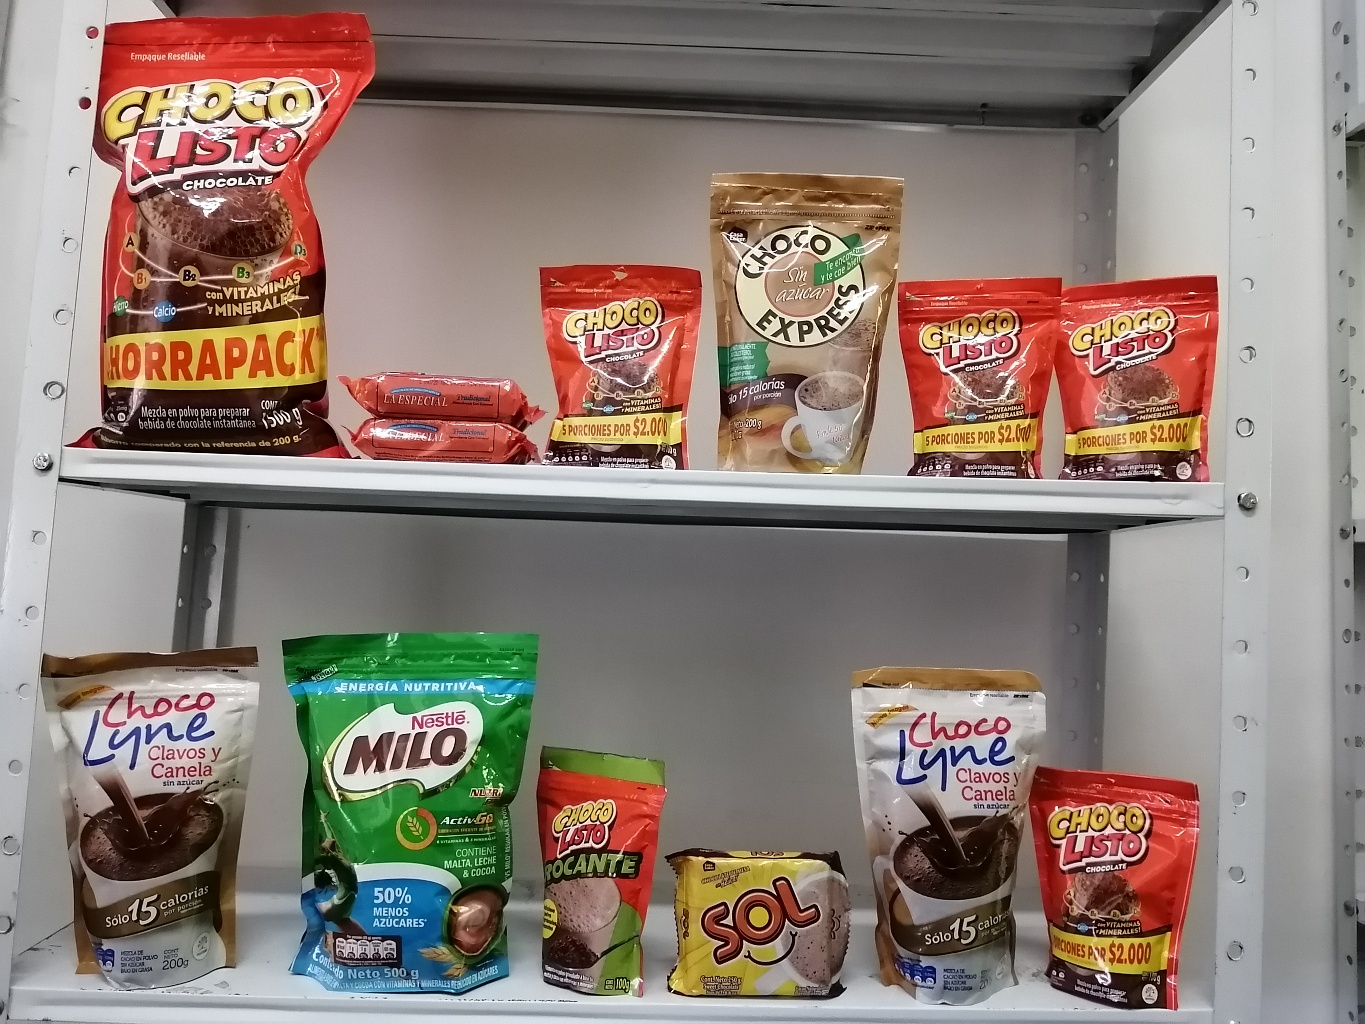COL0170102DYP10000: (535, 730, 681, 992)
COL0170103DYP1,500: (93, 13, 378, 456)
COL0170205DYP50000: (285, 616, 535, 995)
